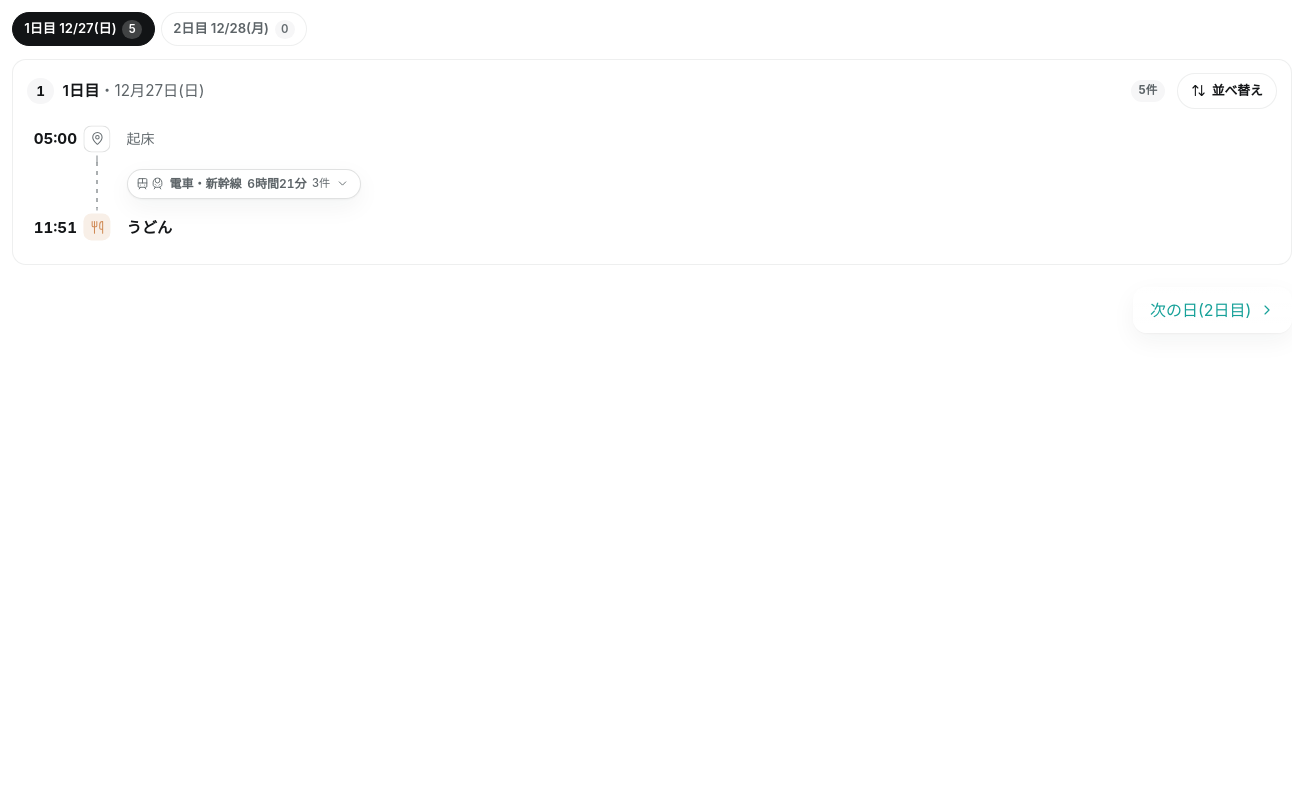
it: 続けて並ぶ移動は1本の「つなぎ」に(第6弾 D-1) › 「並べ替え」を押している間は全部開き、つまみが移動の行にも出る
The image size is (1304, 812).
Click the button "並べ替え" at {"x": 1227, "y": 91}, box 1177,73 -> 1277,109
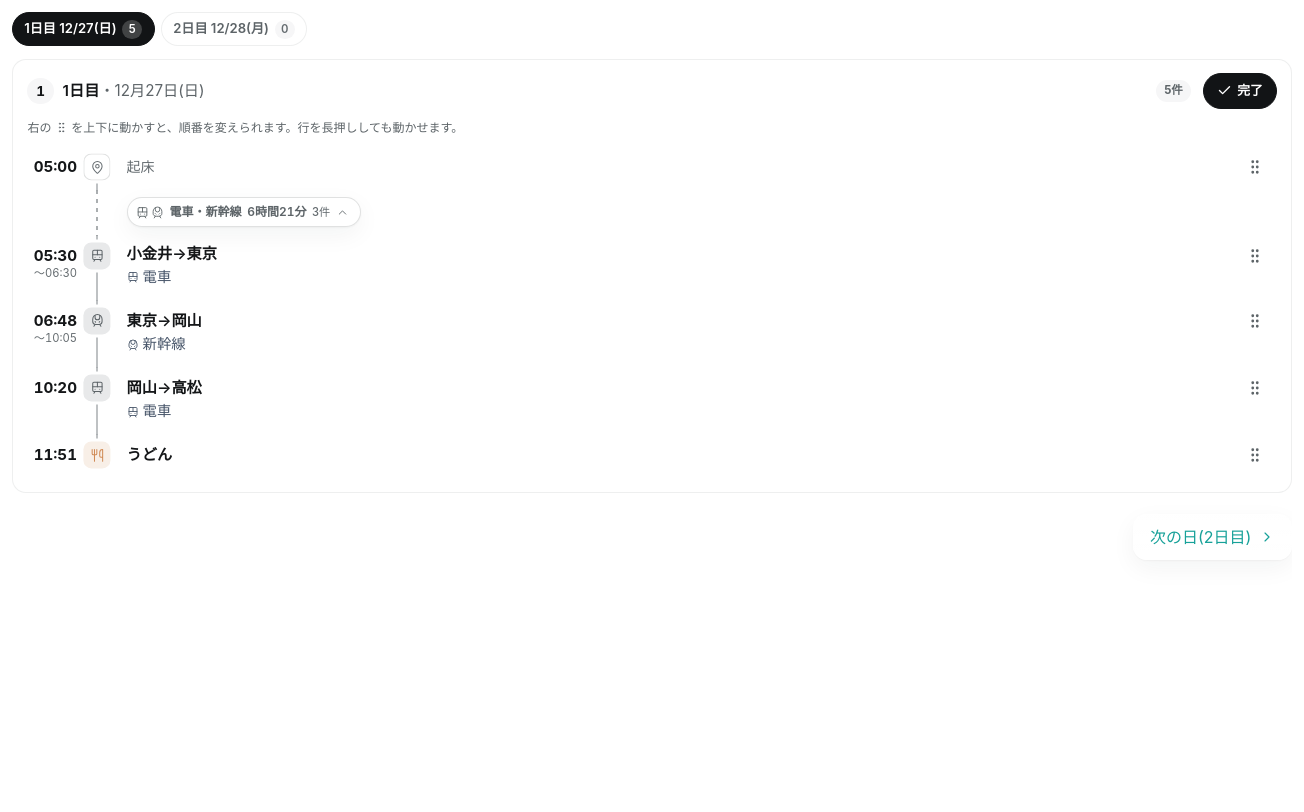
Now the number of buttons named "を動かす" is 5, box 1233,145 -> 1277,189; 1233,234 -> 1277,278; 1233,298 -> 1277,342; 1233,366 -> 1277,410; 1233,433 -> 1277,477
Click the button "完了" at {"x": 1240, "y": 91}, box 1203,73 -> 1277,109
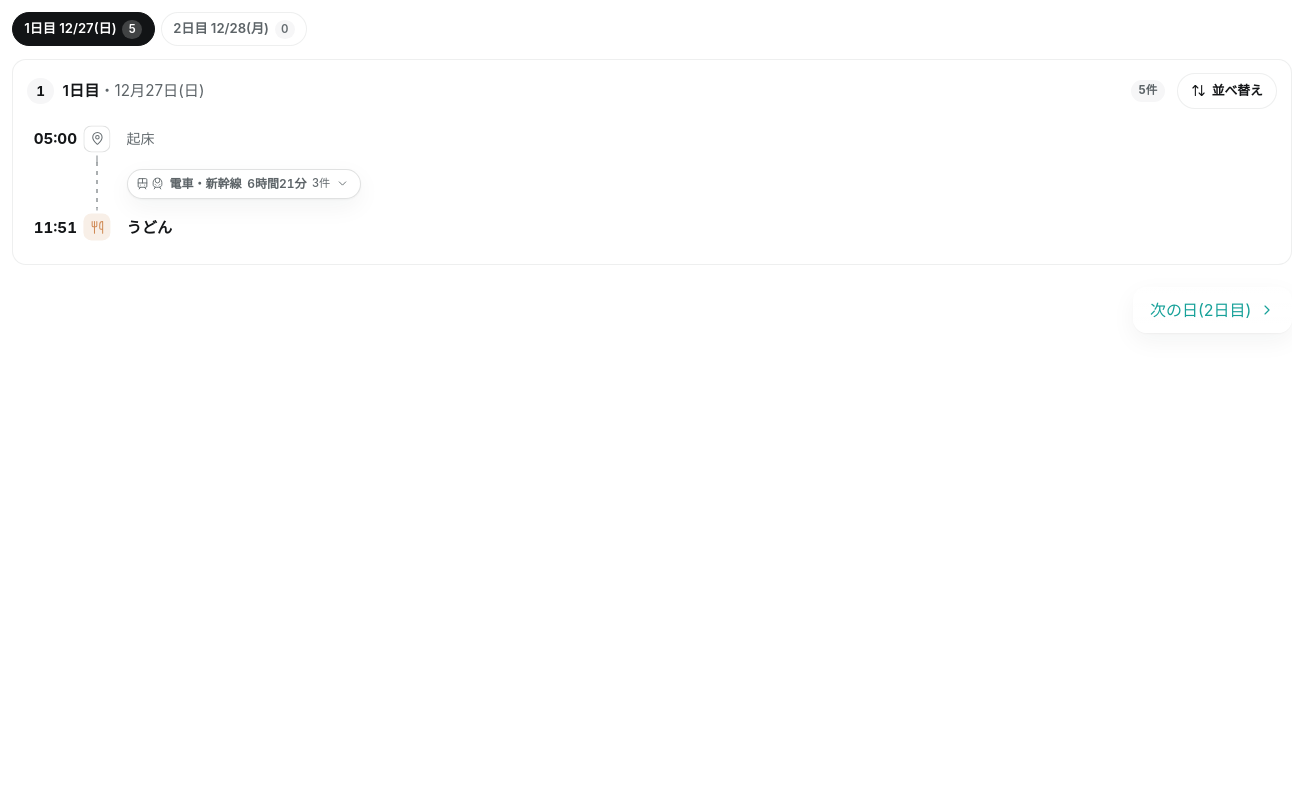
Now the number of list items is 3, box 27,118 -> 1277,162; 127,169 -> 361,198; 27,206 -> 1277,250
